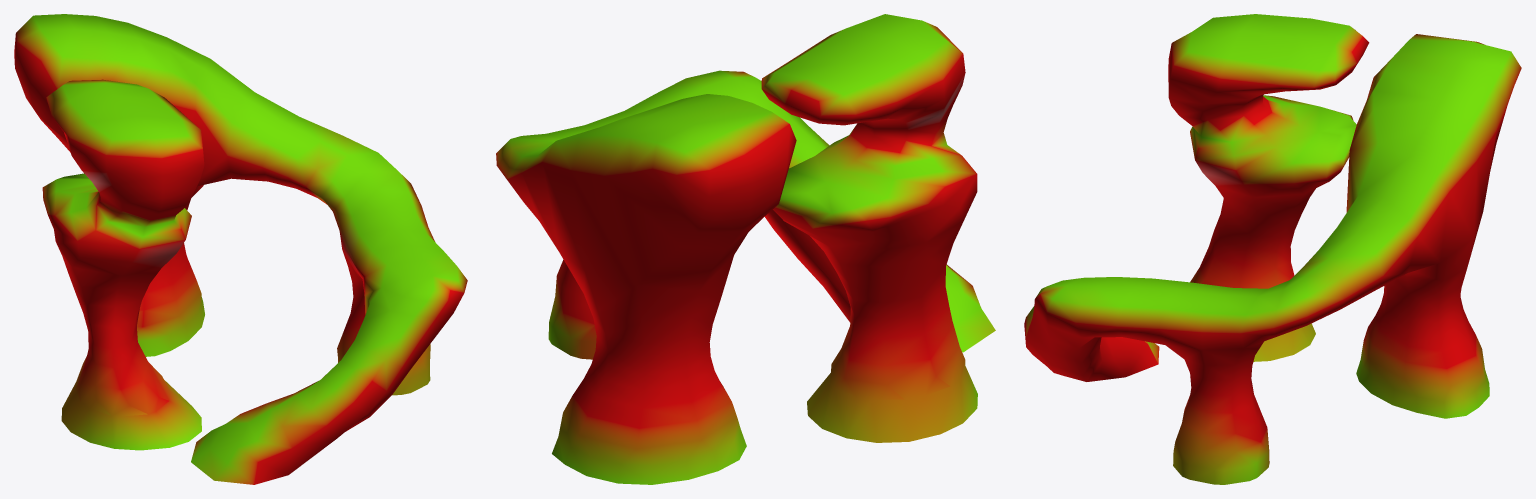
File: AO Rock Spiral.fbx
3 renders of one model, left to right at view 1: azimuth 30°, elevation 25°; view 2: azimuth 150°, elevation 25°; view 3: azimuth 270°, elevation 25°, orthographic. The views are drawn at different scales.
Visible parts, largest first — view 1: Rock Spiral; view 2: Rock Spiral; view 3: Rock Spiral.
Boxes of the visible parts, x1,y1,x2,y2 form: Rock Spiral: (14, 14, 467, 484); Rock Spiral: (496, 14, 995, 484); Rock Spiral: (1024, 14, 1521, 484).
Size of the model in its own units: 1456 by 1198 by 1716.
